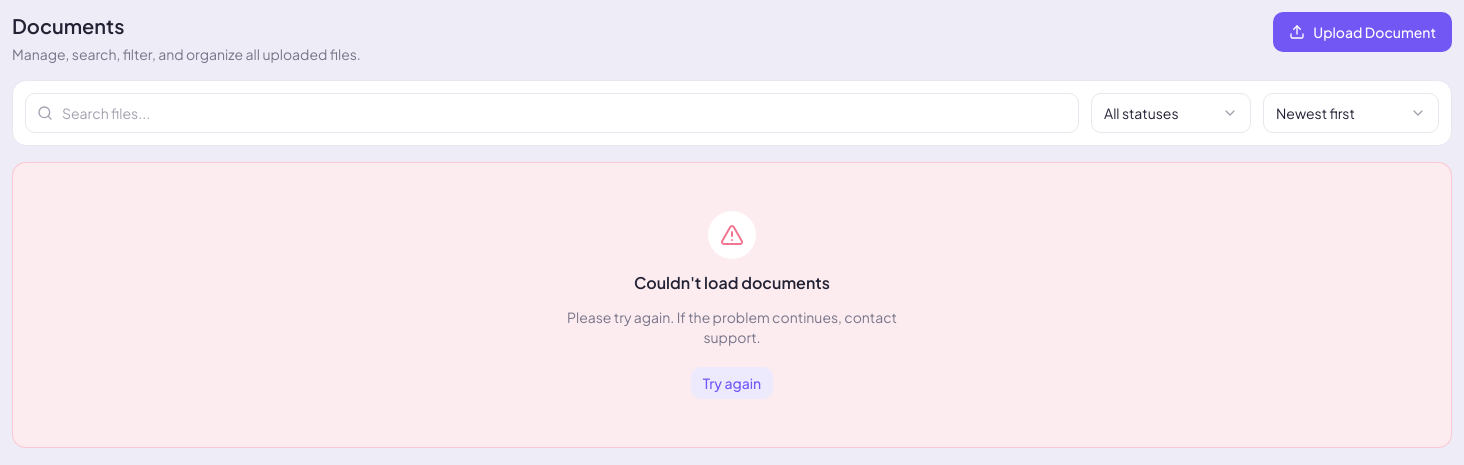
Test: DocumentsPage — list states › shows an error state with a retry action when the list request fails
What coordinates should you click on to do the following:
click the button "Try again"
I would click on:
 (732, 383)
Its box is [691,367,773,399].
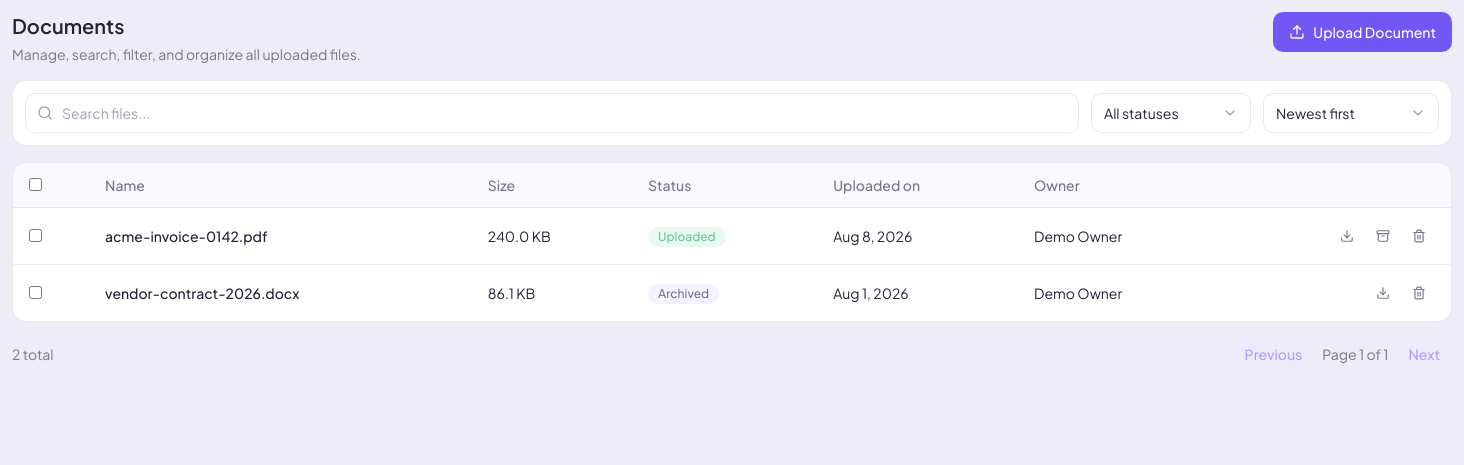
Expected: the text "acme-invoice-0142.pdf" is shown, [89,208,472,264]
